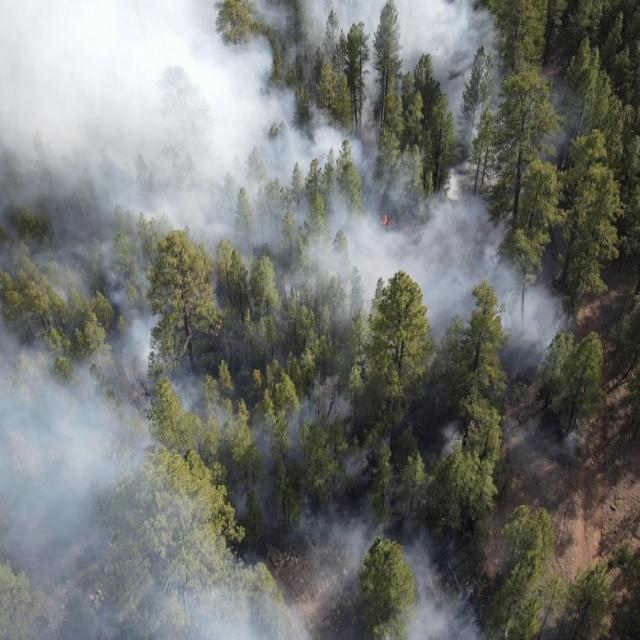fire: (373, 214, 417, 240)
smoke: (0, 0, 503, 640), (502, 68, 590, 191), (503, 272, 566, 372), (510, 420, 586, 476)
